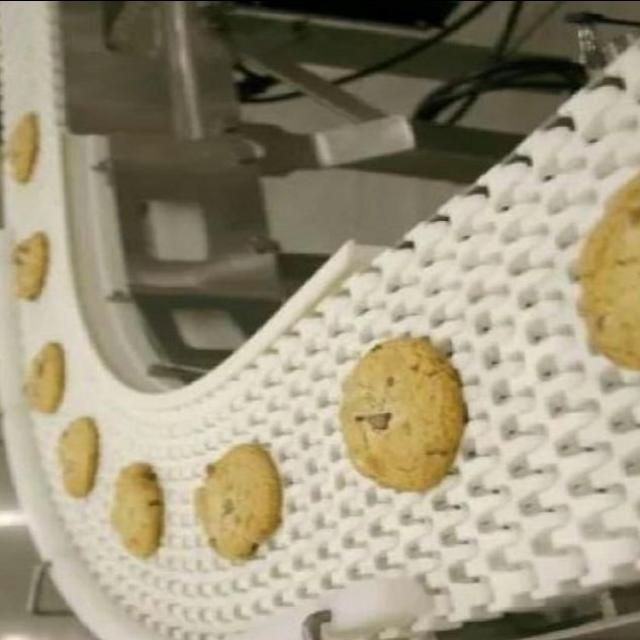food: (335, 334, 467, 493), (184, 436, 284, 559)
